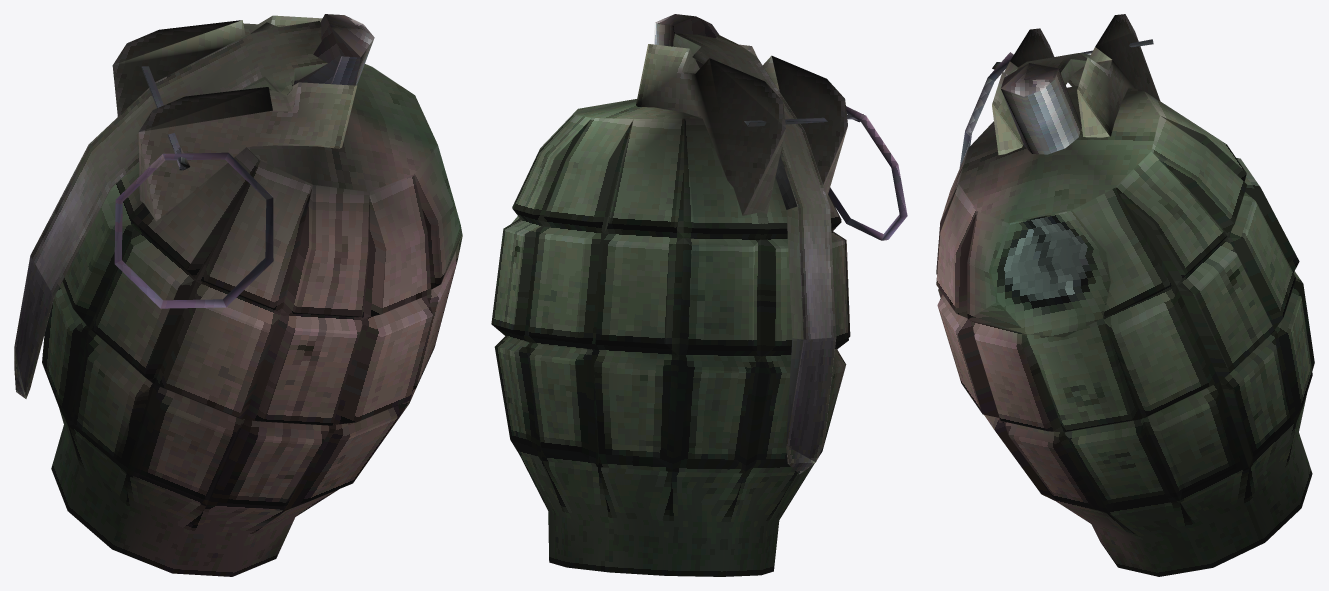
File: ps2_save-icons_moheaeduardo.glb
3 views of the same model, side by side, from view 1: azimuth 30°, elevation 25°; view 2: azimuth 150°, elevation 25°; view 3: azimuth 270°, elevation 25° (orthographic). The views are drawn at different scales.
Parts seen in each view (by area): view 1: MOHEAEduardo; view 2: MOHEAEduardo; view 3: MOHEAEduardo.
Boxes of the visible parts, x1,y1,x2,y2 form: MOHEAEduardo: [14, 14, 462, 576]; MOHEAEduardo: [491, 14, 907, 576]; MOHEAEduardo: [936, 14, 1314, 576].
Size of the model in its own units: 3.44 by 5 by 3.39.
1 material, 1 textured.
